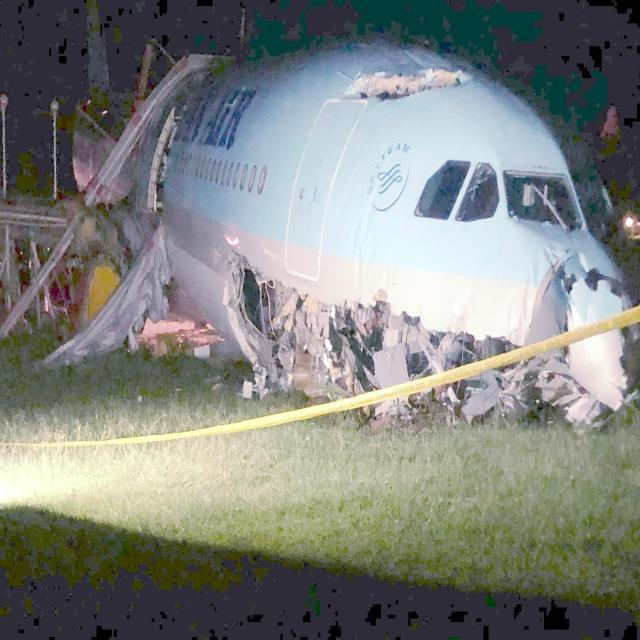crack: (339, 69, 472, 107)
